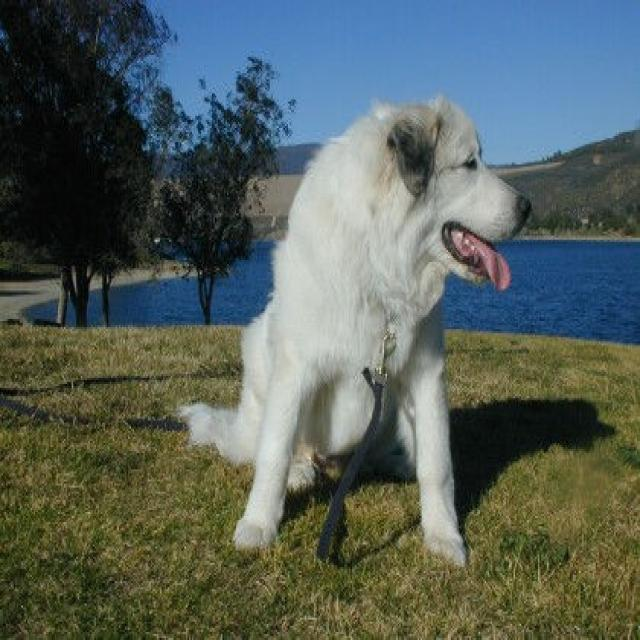dog-great_pyrenees: (184, 87, 530, 567)
